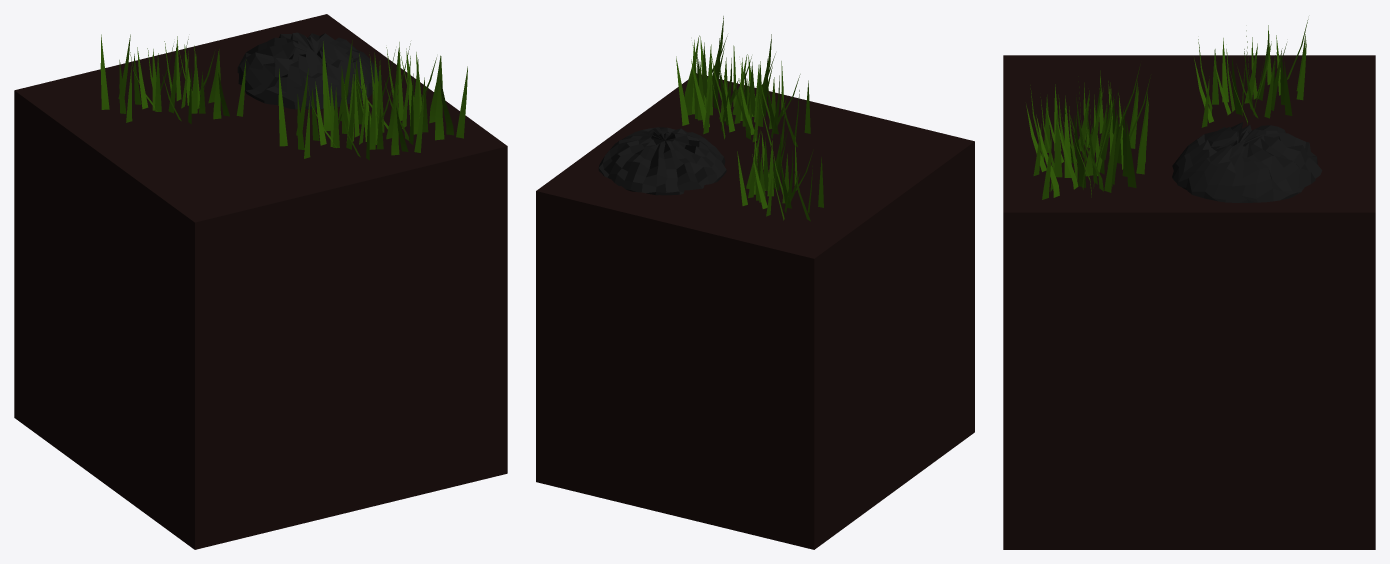
Rendered from Trawa.obj.
The picture shows the model from 3 angles, left to right: view 1: azimuth 30°, elevation 25°; view 2: azimuth 150°, elevation 25°; view 3: azimuth 270°, elevation 25°; orthographic projection. The views are drawn at different scales.
Parts seen in each view (by area): view 1: Cube, Sphere, Plane.002_Plane.031, Plane.001_Plane.030, Plane; view 2: Cube, Sphere, Plane.002_Plane.031, Plane, Plane.001_Plane.030; view 3: Cube, Sphere, Plane.002_Plane.031, Plane, Plane.001_Plane.030.
Part boxes in pixels (x1,y1,x2,y2): Cube: [14, 14, 507, 549]; Sphere: [237, 32, 381, 109]; Plane.002_Plane.031: [322, 40, 467, 144]; Plane.001_Plane.030: [278, 68, 424, 160]; Plane: [100, 34, 246, 124]; Cube: [536, 73, 974, 549]; Sphere: [598, 127, 726, 195]; Plane.002_Plane.031: [676, 16, 762, 139]; Plane: [737, 110, 823, 221]; Plane.001_Plane.030: [724, 34, 810, 146]; Cube: [1003, 55, 1375, 549]; Sphere: [1172, 122, 1322, 202]; Plane.002_Plane.031: [1036, 74, 1151, 199]; Plane: [1194, 19, 1308, 127]; Plane.001_Plane.030: [1026, 64, 1140, 175].
Bounding box in the file's own units: 2 × 2.56 × 2.
